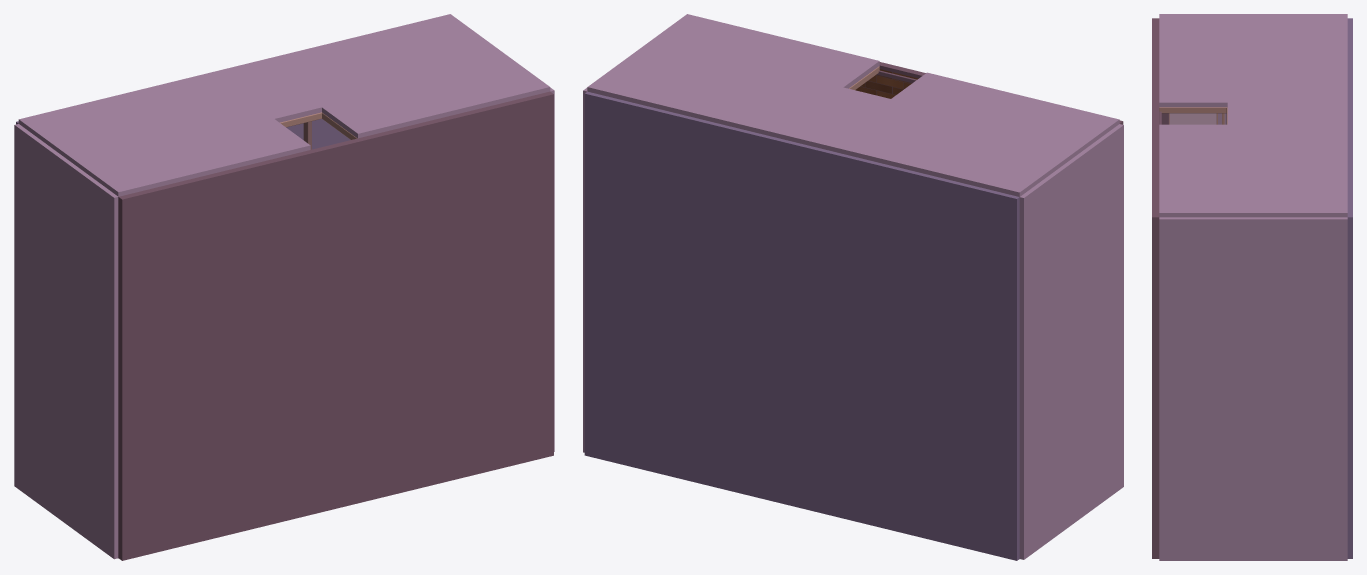
File: moonroom-architecture-floor-material-test.glb
3 renders of one model, left to right at view 1: azimuth 30°, elevation 25°; view 2: azimuth 150°, elevation 25°; view 3: azimuth 270°, elevation 25°, orthographic. The views are drawn at different scales.
Parts seen in each view (by area): view 1: ARCH_Floor_Substrate, ARCH_West_Wall, ARCH_Entry_Wall_West, ARCH_Entry_Wall_East, ARCH_Entry_Wall_Above_Door, ARCH_Ceiling_Slab; view 2: ARCH_Ceiling_Slab, ARCH_West_Wall, ARCH_Entry_Wall_West, ARCH_Entry_Wall_East, ARCH_Entry_Wall_Above_Door, ARCH_Oak_Plank_Field, ARCH_East_Wall; view 3: ARCH_East_Wall, ARCH_Entry_Wall_East, ARCH_Entry_Wall_West, ARCH_Floor_Substrate, ARCH_Ceiling_Slab, ARCH_Entry_Wall_Above_Door, ARCH_West_Panel_3.75, ARCH_Entry_Door_Jamb_West.
Part boxes in pixels (box(x1,y1,x2,y2)): ARCH_Floor_Substrate: box(118, 91, 553, 560); ARCH_West_Wall: box(14, 124, 118, 559); ARCH_Entry_Wall_West: box(18, 72, 310, 196); ARCH_Entry_Wall_East: box(259, 14, 550, 138); ARCH_Entry_Wall_Above_Door: box(211, 61, 321, 122); ARCH_Ceiling_Slab: box(16, 119, 350, 149); ARCH_Ceiling_Slab: box(584, 91, 1019, 560); ARCH_West_Wall: box(1019, 124, 1123, 559); ARCH_Entry_Wall_West: box(827, 72, 1119, 196); ARCH_Entry_Wall_East: box(587, 14, 879, 138); ARCH_Entry_Wall_Above_Door: box(779, 87, 890, 149); ARCH_Oak_Plank_Field: box(855, 69, 918, 98); ARCH_East_Wall: box(583, 88, 587, 452); ARCH_East_Wall: box(1159, 217, 1347, 560); ARCH_Entry_Wall_East: box(1159, 124, 1347, 217); ARCH_Entry_Wall_West: box(1159, 14, 1347, 107); ARCH_Floor_Substrate: box(1152, 18, 1159, 558); ARCH_Ceiling_Slab: box(1347, 18, 1352, 558); ARCH_Entry_Wall_Above_Door: box(1227, 102, 1347, 124); ARCH_West_Panel_3.75: box(1169, 113, 1216, 124); ARCH_Entry_Door_Jamb_West: box(1159, 107, 1226, 113).
Bounding box in the file's own units: 20.4 × 16.23 × 8.52.
Materials: 14 (6 with a texture image).
